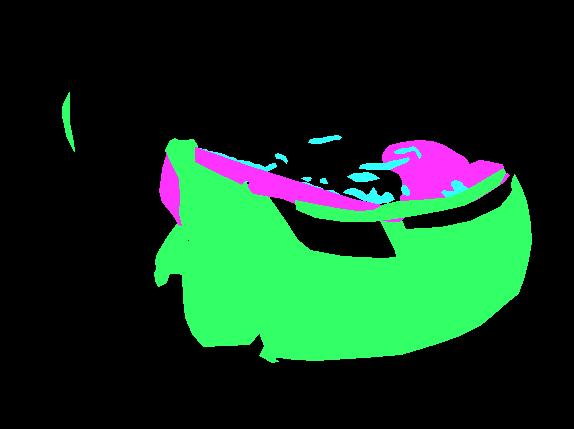Broken part: (222, 174, 531, 362), (154, 138, 304, 286), (182, 219, 279, 346), (295, 168, 505, 221), (62, 92, 74, 151)
Dent: (195, 147, 405, 221), (382, 140, 509, 214), (159, 152, 181, 225)
Flaking: (214, 153, 276, 174), (343, 187, 394, 203), (359, 157, 409, 169), (441, 180, 469, 201), (394, 146, 421, 158), (347, 172, 379, 181), (308, 135, 341, 143), (195, 148, 220, 158), (298, 182, 322, 190), (240, 169, 253, 182), (324, 190, 341, 198), (275, 153, 287, 163), (325, 211, 342, 218), (279, 190, 291, 197), (292, 187, 300, 197), (401, 185, 409, 195), (302, 204, 318, 208), (362, 204, 369, 210), (301, 177, 311, 181), (320, 178, 327, 183)
